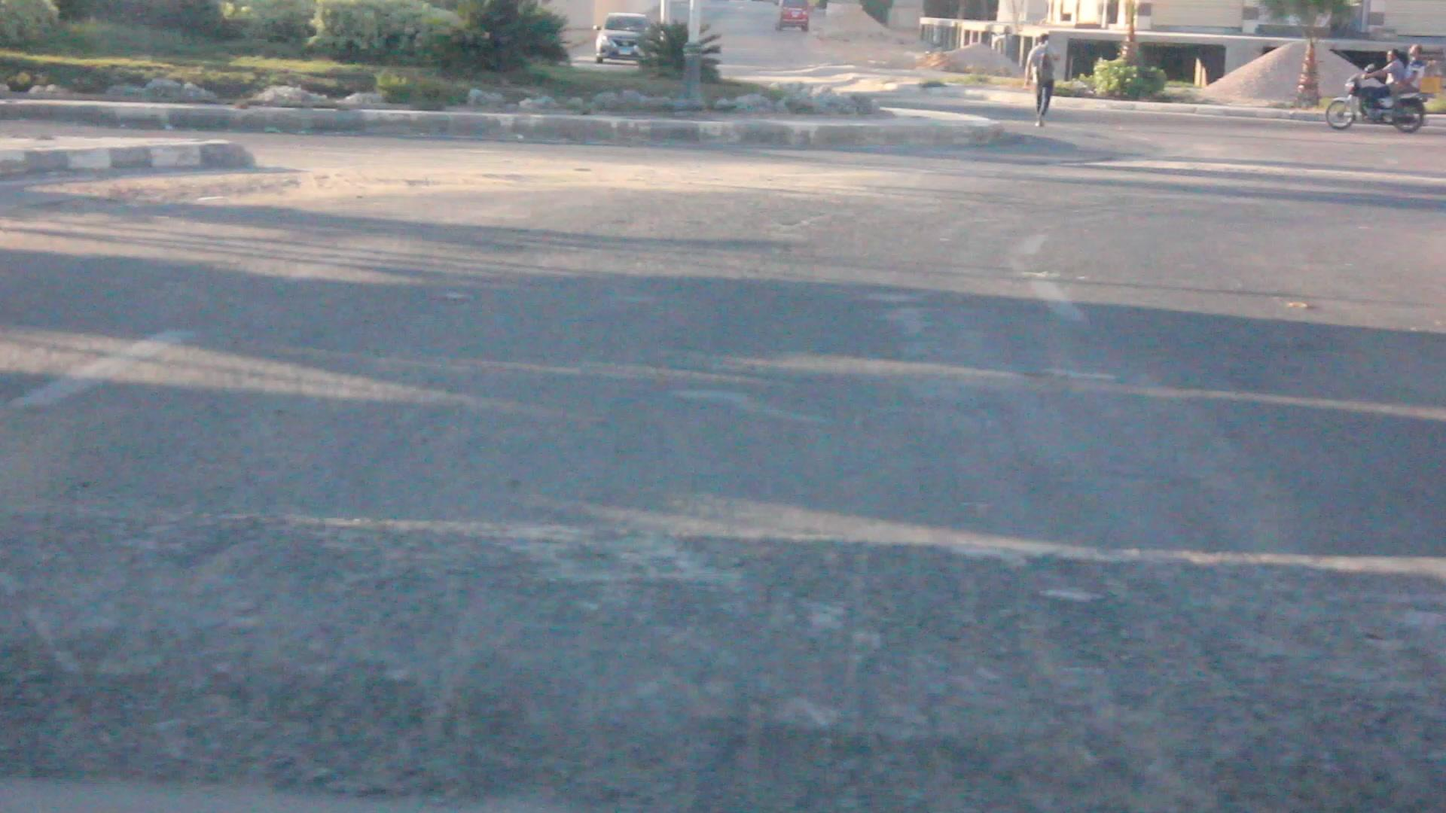Bump: (8, 474, 1446, 813)
